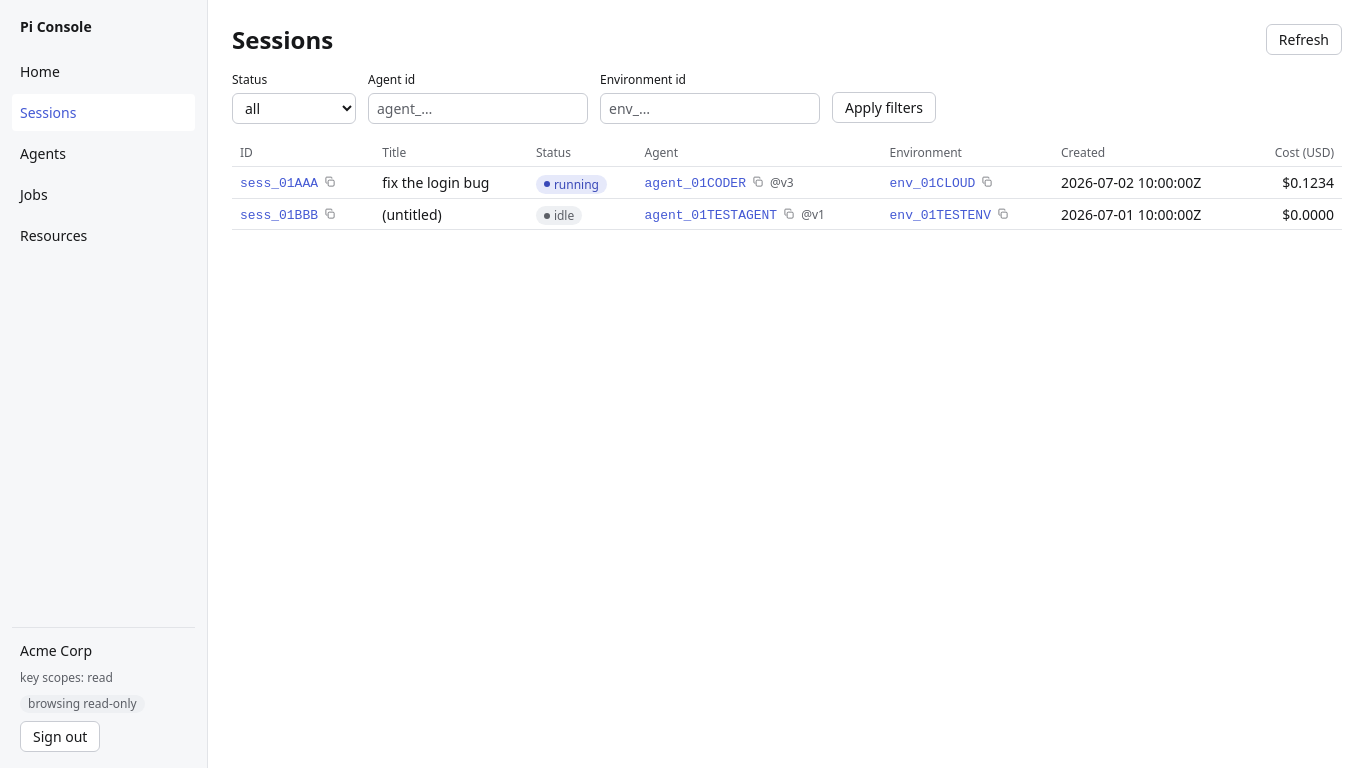
Test case: sessions list (§7.3) › Refresh refetches the list (manual — live tail is phase 2)
Expected: the table named "Sessions" is shown, [232,140,1342,230]
Click the button "Refresh".
click(1304, 40)  # box [1266,24,1342,55]
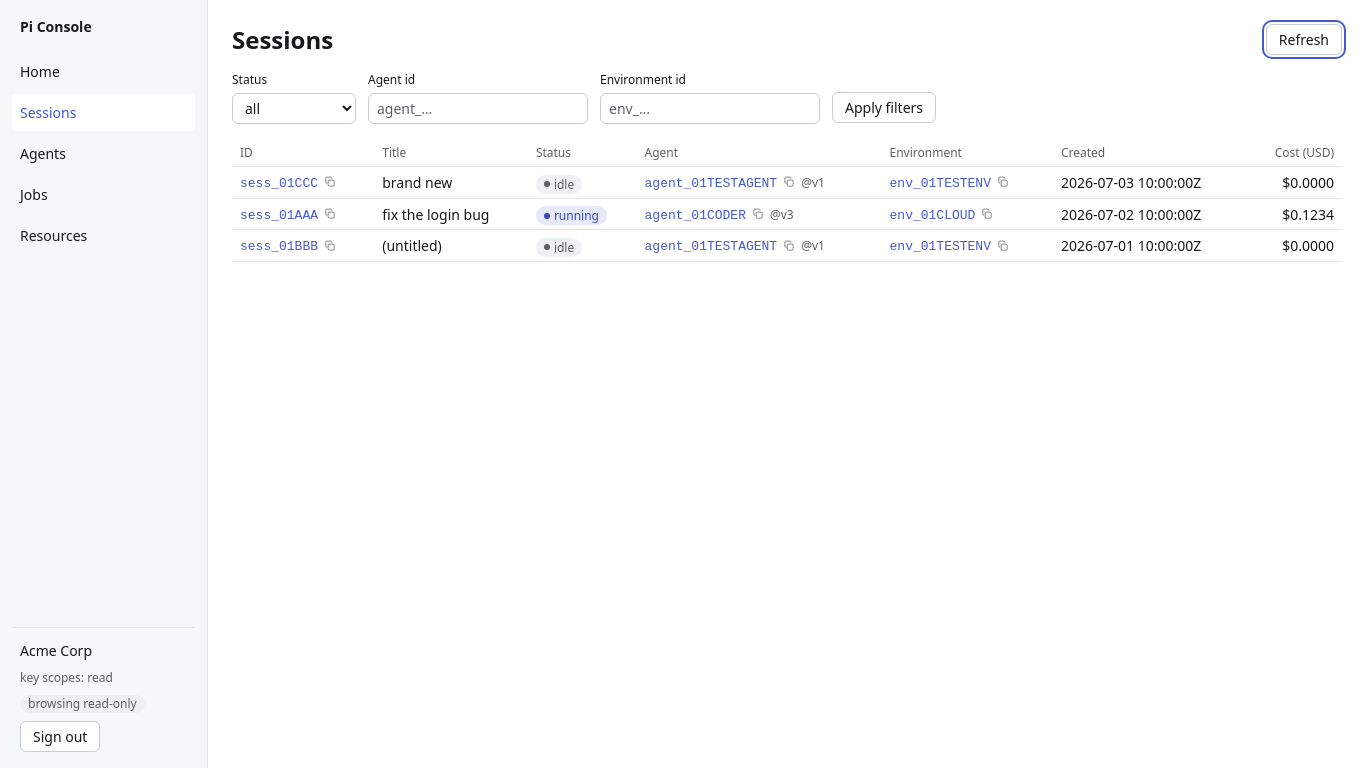
Expected: the text "brand new" is shown, [374,167,528,198]
